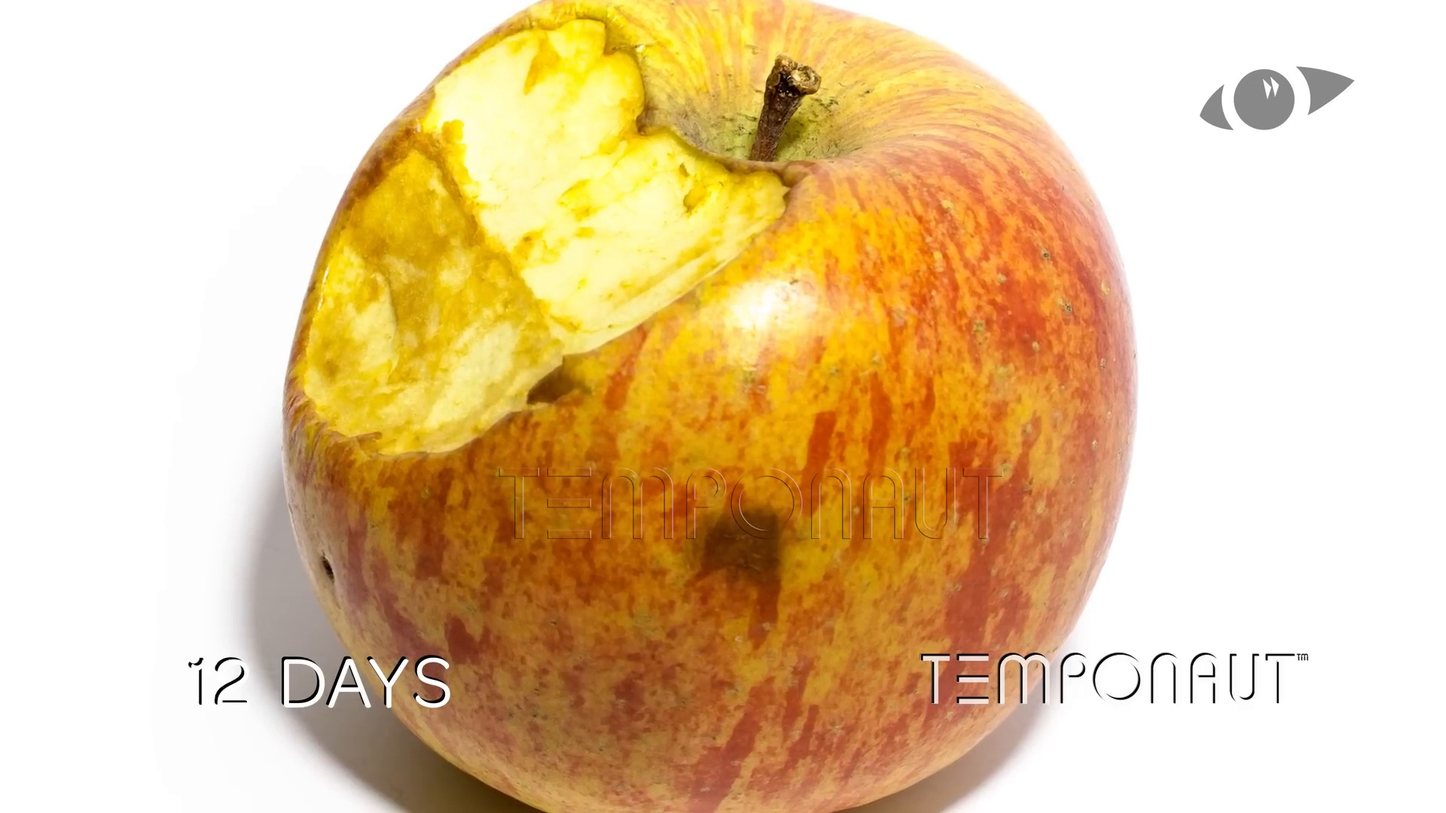apple_rotten: (282, 3, 1138, 803)
